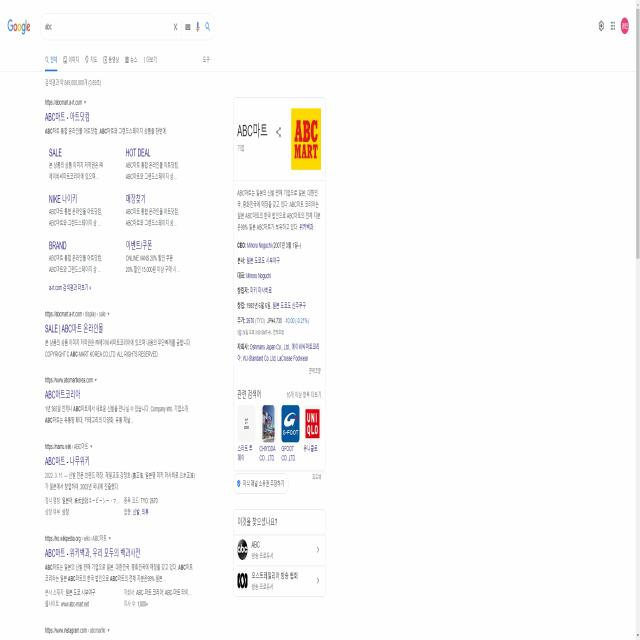menu-bar: (592, 13, 632, 40)
search: (39, 11, 217, 42)
side-panel: (231, 95, 326, 605)
tab-bar: (44, 50, 162, 71)
